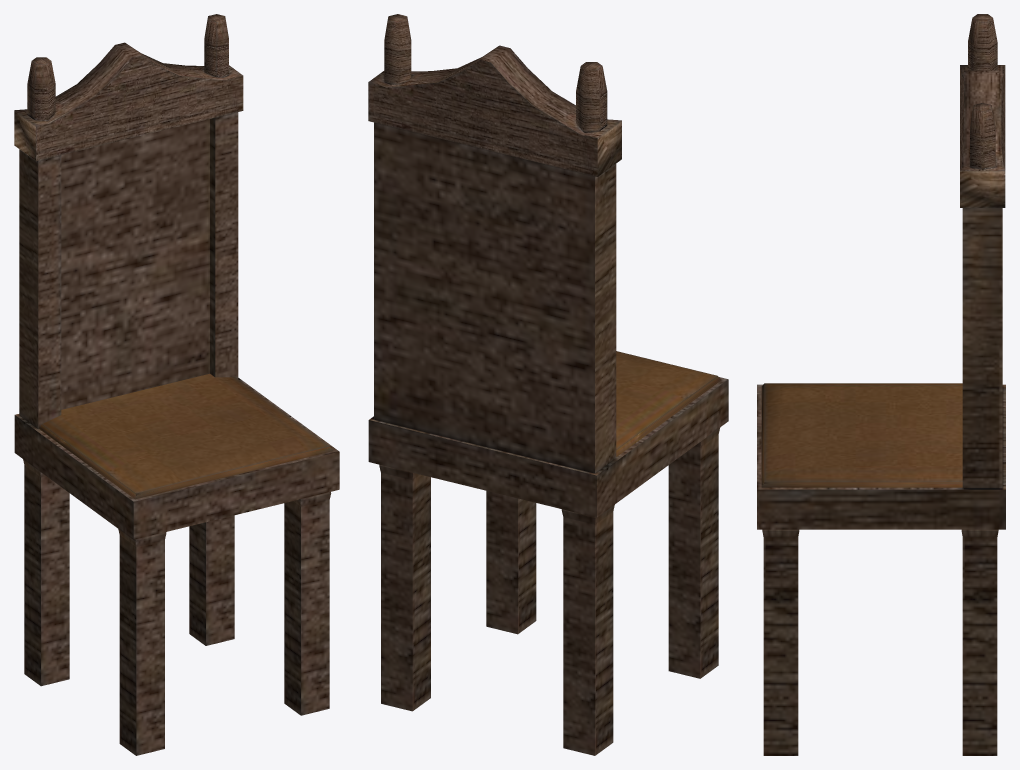
3 renders of one model, left to right at view 1: azimuth 30°, elevation 25°; view 2: azimuth 150°, elevation 25°; view 3: azimuth 270°, elevation 25°, orthographic. The views are drawn at different scales.
Parts seen in each view (by area): view 1: Cadeira; view 2: Cadeira; view 3: Cadeira.
Part boxes in pixels (x1,y1,x2,y2): Cadeira: [14, 14, 339, 755]; Cadeira: [368, 14, 728, 755]; Cadeira: [757, 14, 1005, 755].
Bounding box in the file's own units: 2.01 × 5.71 × 2.
1 material, 1 textured.
